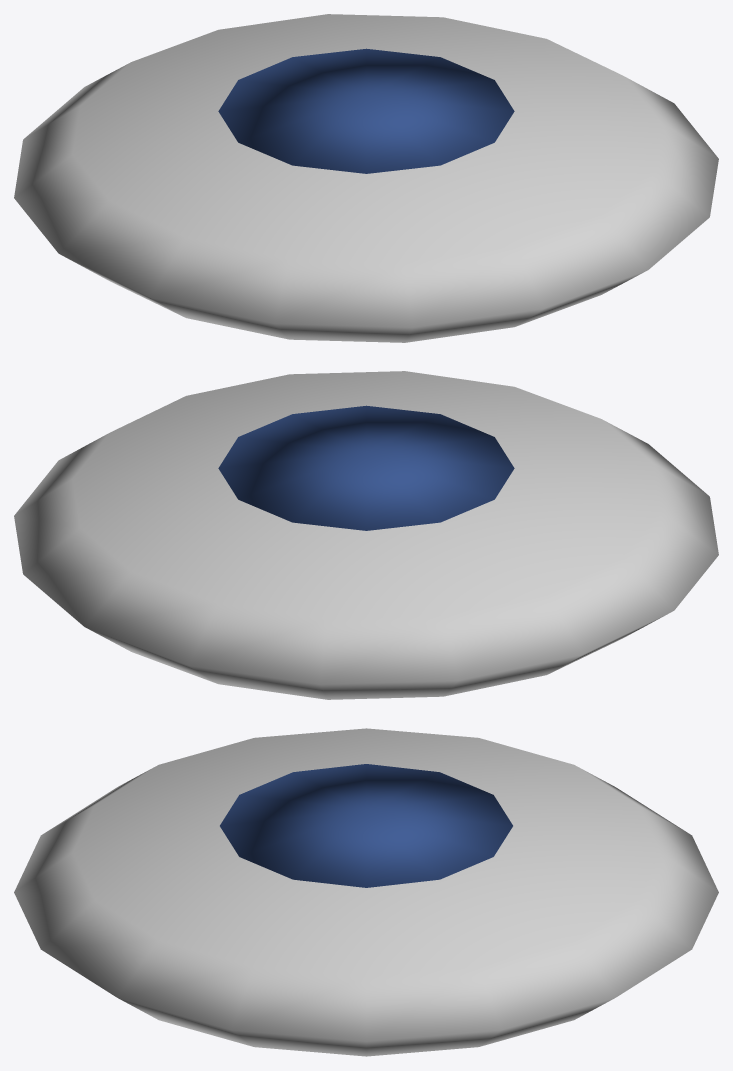
Rendered from lens.glb.
3 renders of one model, top to bottom at view 1: azimuth 30°, elevation 25°; view 2: azimuth 150°, elevation 25°; view 3: azimuth 270°, elevation 25°, orthographic.
Visible parts, largest first — view 1: lens_v0; view 2: lens_v0; view 3: lens_v0.
Part boxes in pixels (box(x1,y1,x2,y2)): lens_v0: box(14, 14, 718, 342); lens_v0: box(14, 371, 718, 699); lens_v0: box(14, 728, 718, 1056).
Bounding box in the file's own units: 0.24 × 0.056 × 0.24.
